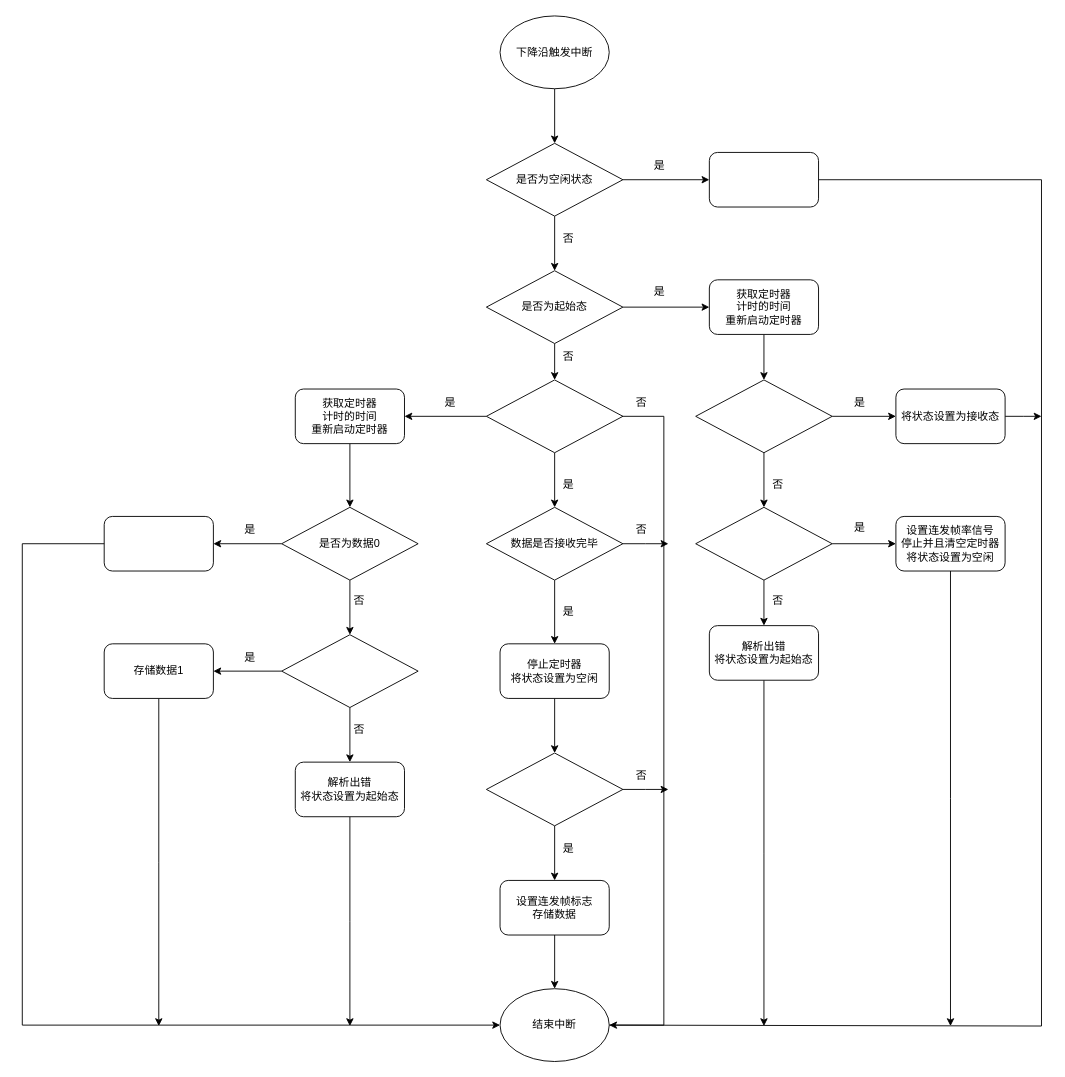
Some shapes in this 1065 by 1077 pixel diagram are drawn without their labels. The shapes that lost their labels are listed below. From the top down, each one's box as (x1, y1, x2, y2) in pixels, then its label:
(708, 152, 819, 207): 开启定时器开始计时 将状态设置为起始态
(485, 379, 623, 453): 是否为接收态
(695, 379, 832, 453): 是否为起始信号
(103, 516, 213, 571): 存储数据0
(695, 506, 832, 580): 是否为重复发送信号
(281, 634, 418, 708): 是否为数据1
(485, 752, 623, 826): 判断数据是否合法
